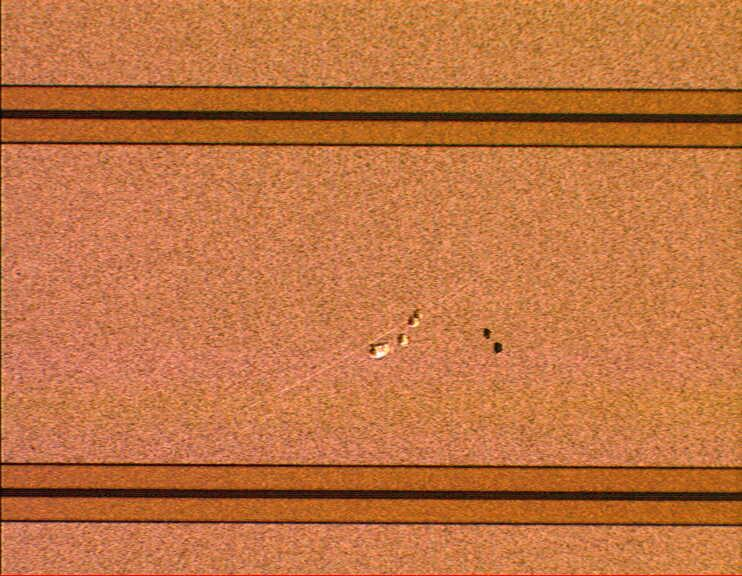SCRATCH: (148, 248, 539, 467)
